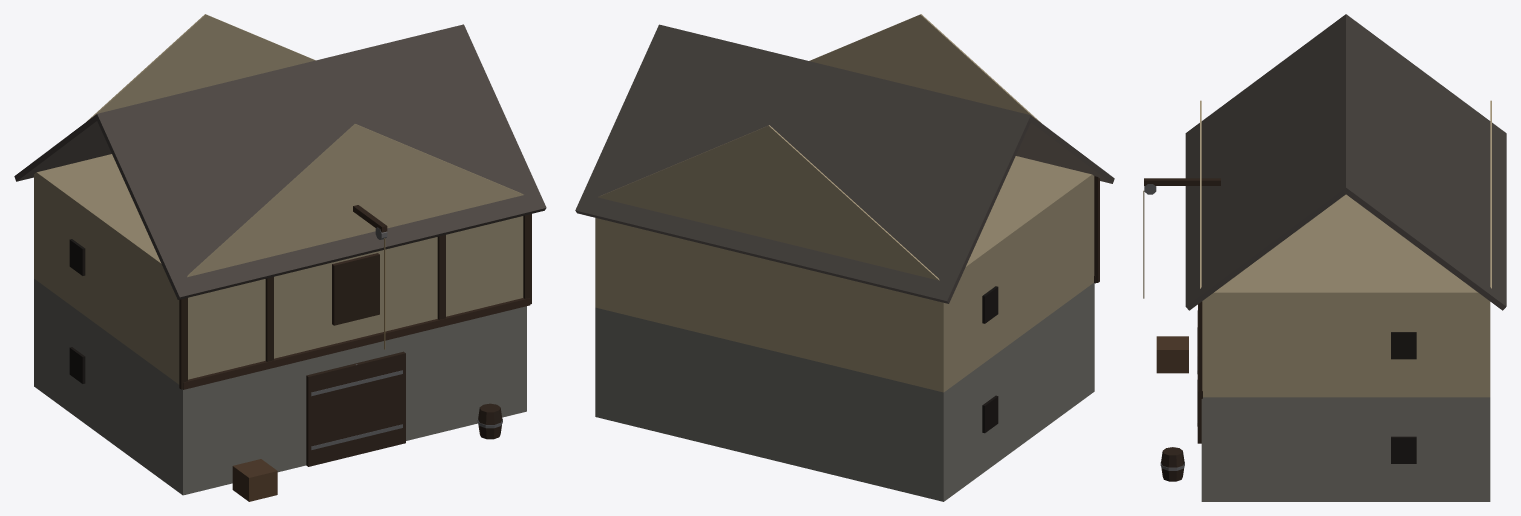
The model's file is walk_hallowed_warehouse.glb.
The picture shows the model from 3 angles, left to right: view 1: azimuth 30°, elevation 25°; view 2: azimuth 150°, elevation 25°; view 3: azimuth 270°, elevation 25°; orthographic projection. The views are drawn at different scales.
Visible parts, largest first — view 1: walk_hallowed_warehouse, walk_hallowed_warehouse_roof; view 2: walk_hallowed_warehouse, walk_hallowed_warehouse_roof; view 3: walk_hallowed_warehouse, walk_hallowed_warehouse_roof.
Boxes of the visible parts, bbox=[...] form: walk_hallowed_warehouse: bbox=[34, 154, 531, 501]; walk_hallowed_warehouse_roof: bbox=[14, 14, 546, 299]; walk_hallowed_warehouse: bbox=[595, 156, 1099, 501]; walk_hallowed_warehouse_roof: bbox=[575, 14, 1114, 303]; walk_hallowed_warehouse: bbox=[1143, 178, 1490, 501]; walk_hallowed_warehouse_roof: bbox=[1185, 14, 1506, 310].
Size of what is drawn, in the model's own units: 12.8 by 11 by 11.31.
Materials: 2 (2 with a texture image).
